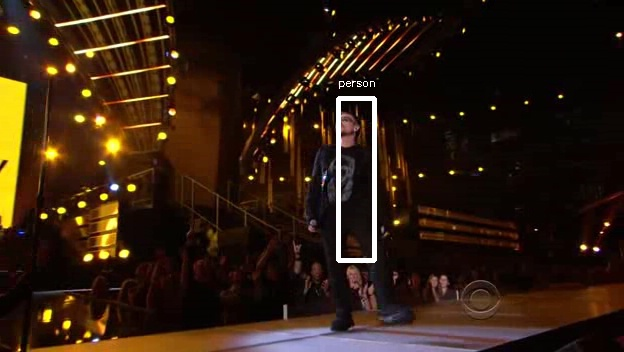person: (308, 115, 380, 235), (305, 115, 377, 235), (311, 115, 383, 235), (308, 112, 380, 232), (308, 118, 380, 238)
target_negative: (298, 141, 621, 267), (121, 187, 597, 269), (293, 263, 541, 352), (327, 291, 501, 341), (599, 217, 621, 237), (140, 342, 239, 345)
